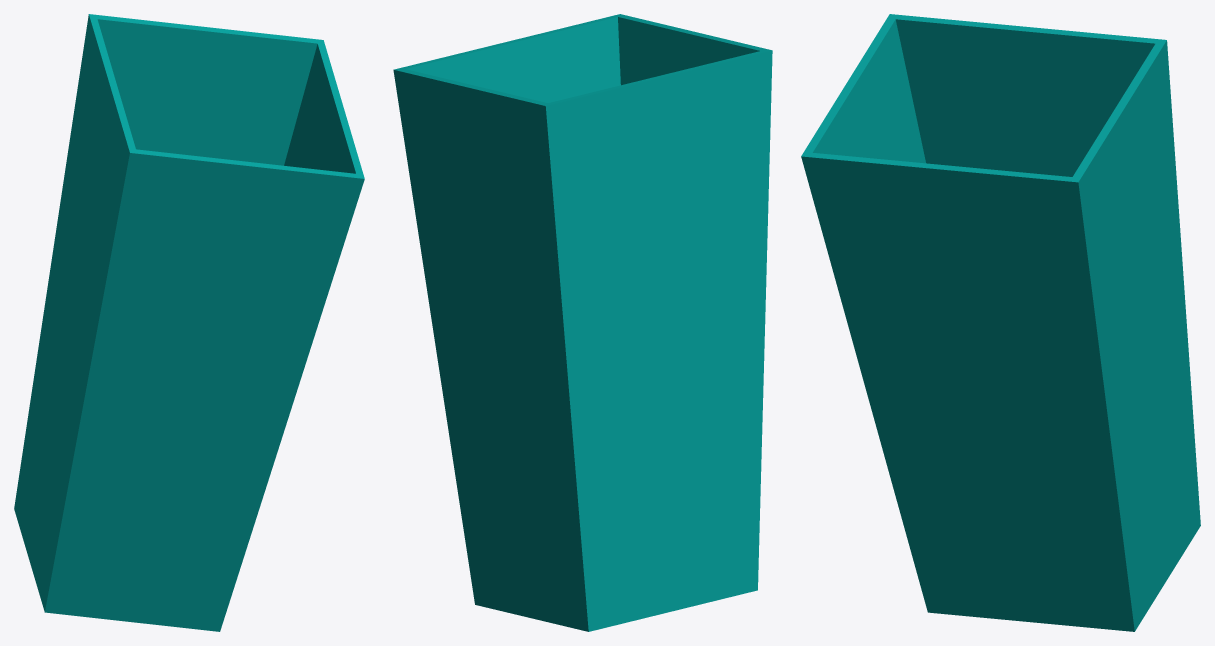
File: _ANM_SmallBox.fbx
The picture shows the model from 3 angles, left to right: view 1: azimuth 30°, elevation 25°; view 2: azimuth 150°, elevation 25°; view 3: azimuth 270°, elevation 25°; orthographic projection. The views are drawn at different scales.
Parts seen in each view (by area): view 1: ANM_SmallBox; view 2: ANM_SmallBox; view 3: ANM_SmallBox.
Part boxes in pixels (box(x1,y1,x2,y2)): ANM_SmallBox: box(14, 14, 364, 631); ANM_SmallBox: box(393, 14, 772, 631); ANM_SmallBox: box(801, 14, 1200, 631).
Size of the model in its own units: 4.09 by 6.6 by 4.24.
